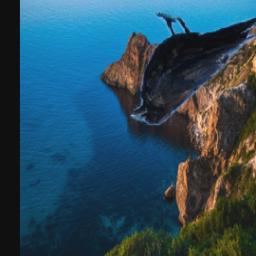Crow: (128, 11, 256, 125)
